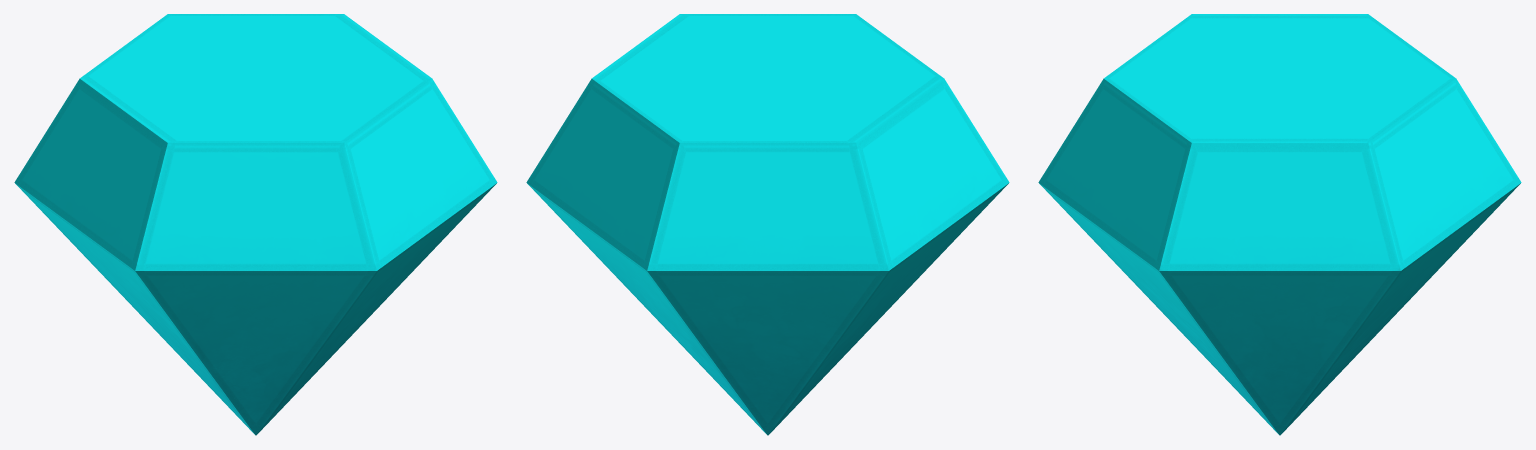
File: crystal1-1tex.fbx
The picture shows the model from 3 angles, left to right: view 1: azimuth 30°, elevation 25°; view 2: azimuth 150°, elevation 25°; view 3: azimuth 270°, elevation 25°; orthographic projection.
Parts seen in each view (by area): view 1: crystal1-1tex; view 2: crystal1-1tex; view 3: crystal1-1tex.
Part boxes in pixels (box(x1,y1,x2,y2)): crystal1-1tex: box(14, 14, 497, 435); crystal1-1tex: box(526, 14, 1009, 435); crystal1-1tex: box(1038, 14, 1521, 435).
Bounding box in the file's own units: 0.3932 × 0.3706 × 0.4541.
